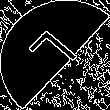L_SE: (25, 26, 85, 84)
